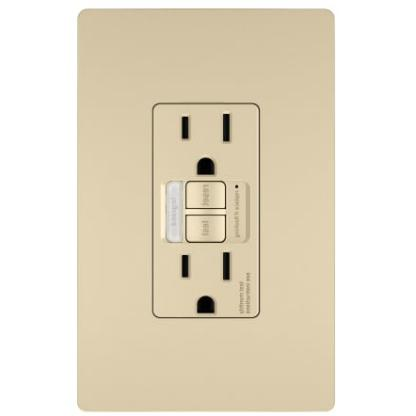OUTLET: (78, 9, 334, 412)
